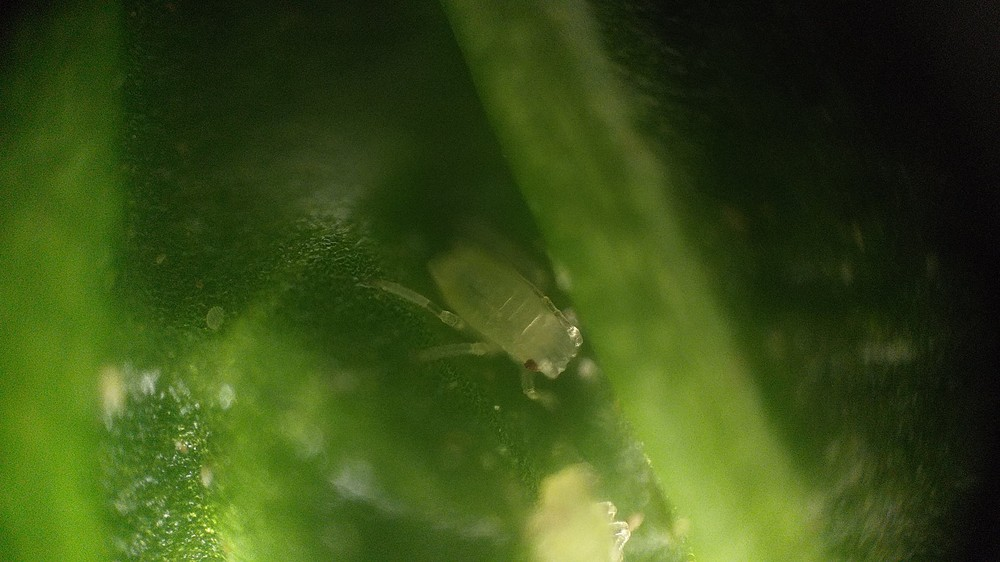Pulgon: (347, 204, 658, 415)
